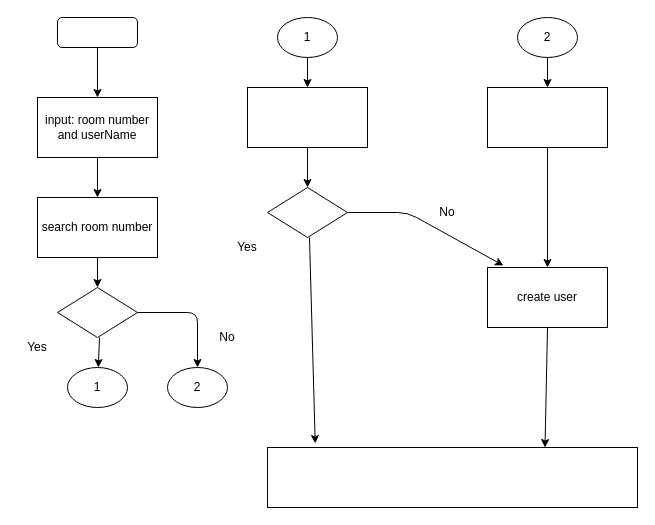
Some shapes in this 655 by 525 pixel diagram are drawn without their labels. The shapes that lost their labels are listed below. From the top down, each one's centre as x and y in pixels, then its label:
(x=97, y=32): start
(x=307, y=117): search user name
(x=547, y=117): create room
(x=452, y=477): goto game window(room ID, user id)
